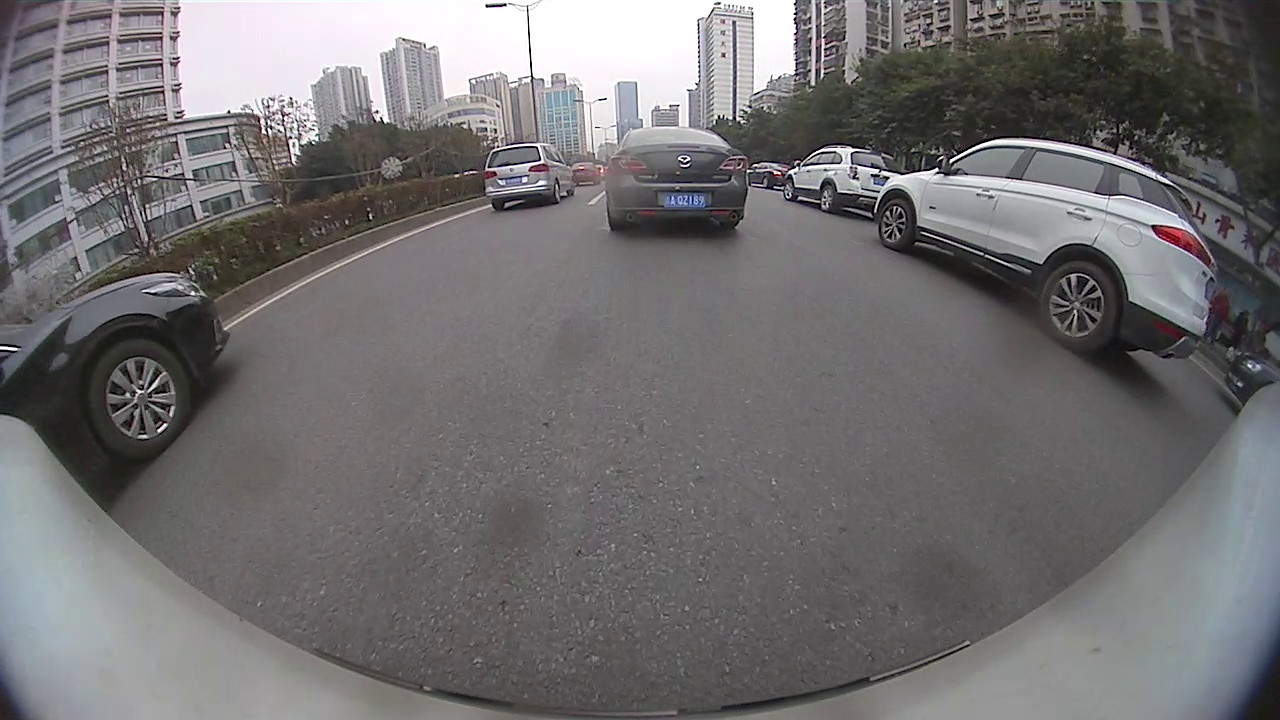car: (874, 134, 1220, 356), (1, 270, 231, 476), (604, 124, 749, 236), (781, 144, 893, 213), (484, 142, 571, 210), (1222, 353, 1278, 404), (742, 158, 793, 189), (567, 162, 602, 192)
front: (91, 339, 192, 462), (877, 199, 919, 251), (783, 180, 797, 201)
person: (1212, 283, 1230, 346), (1237, 310, 1249, 350)
rear: (1035, 263, 1119, 348), (818, 182, 836, 215), (553, 178, 562, 203)
